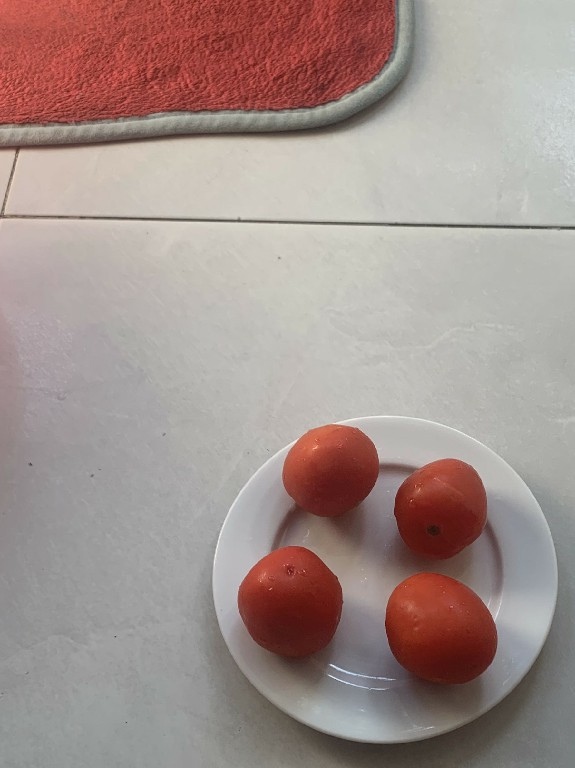OK: (379, 569, 499, 687), (232, 548, 341, 658), (277, 419, 384, 520), (398, 451, 485, 557)
